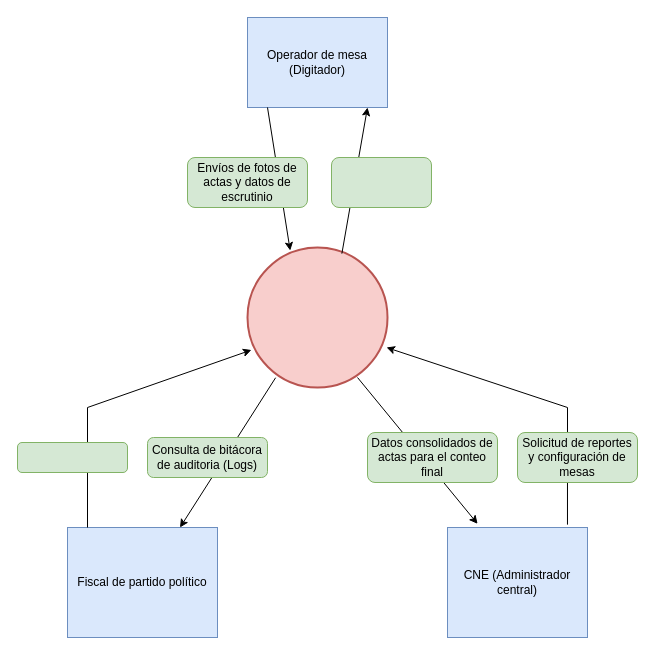
The diagram is 655 pixels wide and 655 high, and some of its shapes have lost their labels. Here are the shapes that lost their labels. From the top down, the centre of each, then its label:
At pixel 381 182: "Notificación de validación exitosa o error de suma".
At pixel 317 317: "Sistema ActaSeguro".
At pixel 72 457: "Solicitud de verificación de acta".
